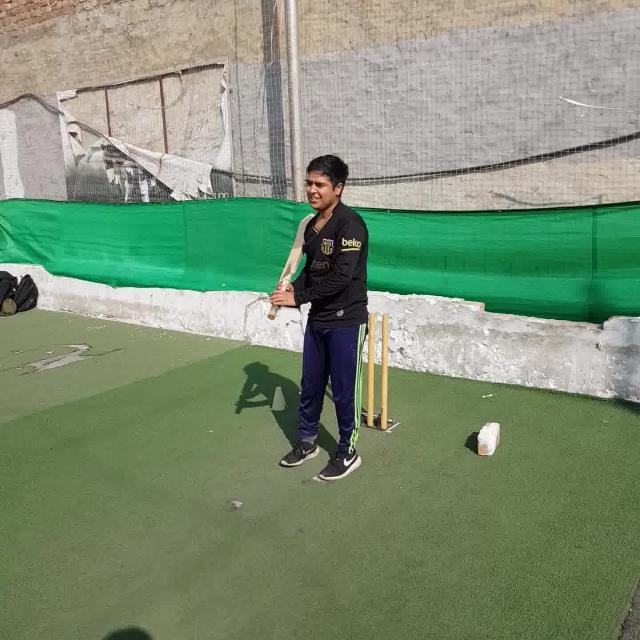bat: (266, 214, 312, 320)
